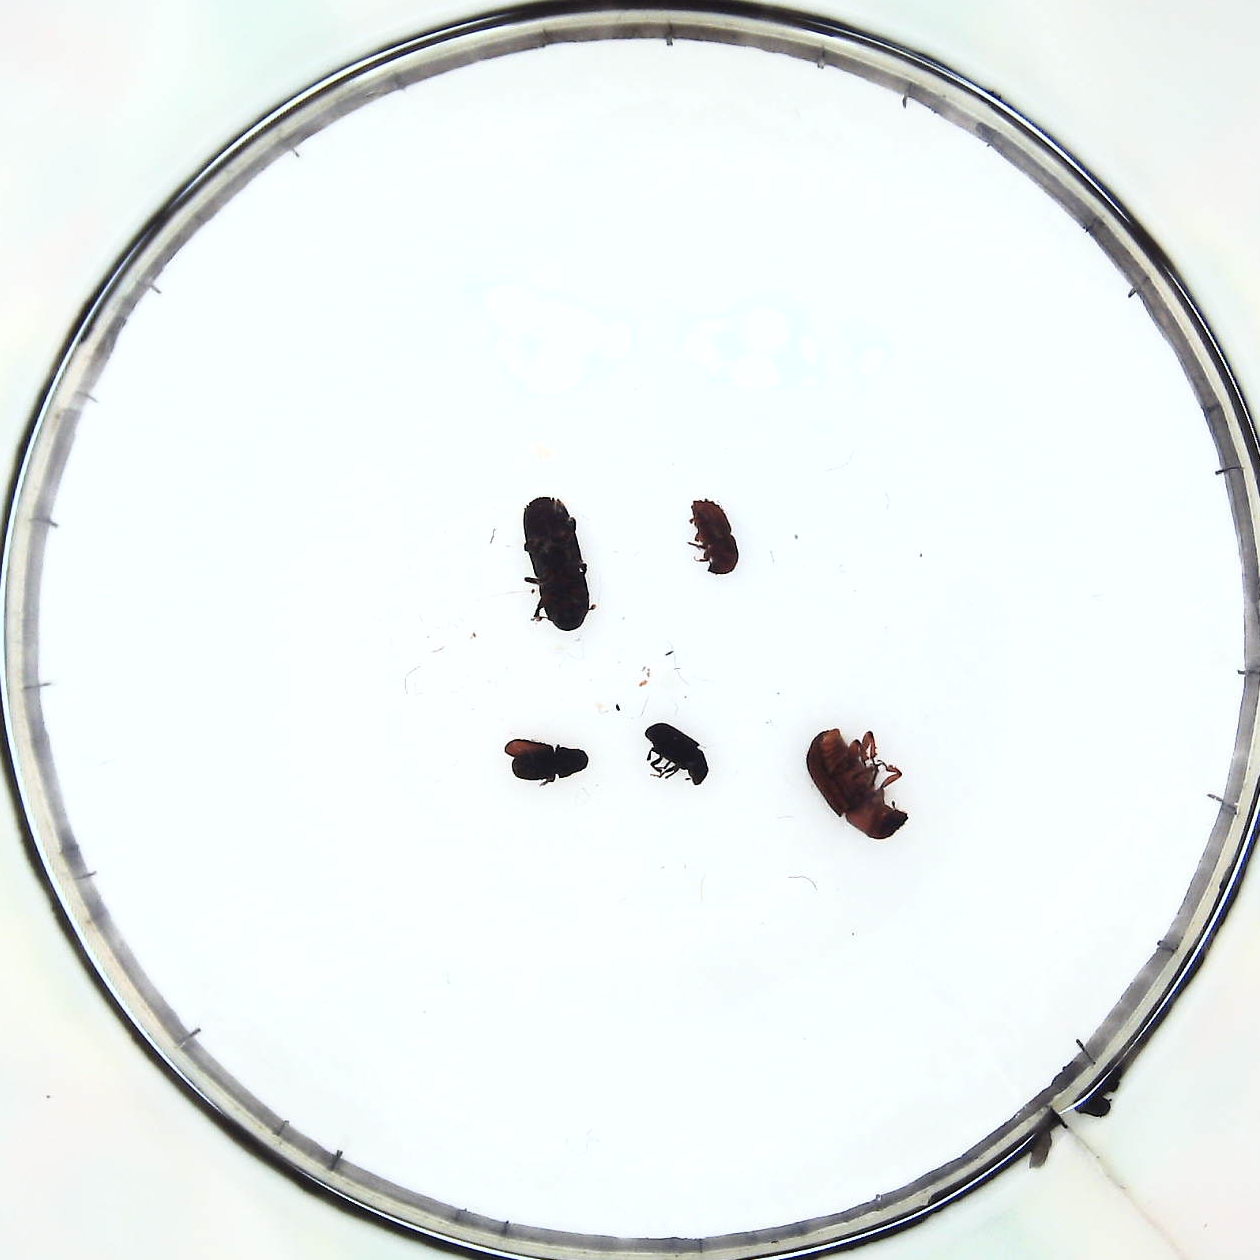Boerner: (517, 494, 588, 630)
Leconte: (803, 727, 912, 843)
Linnaeus: (691, 494, 740, 573)
armandi: (500, 734, 588, 780)
coleoptera: (640, 721, 708, 789)
